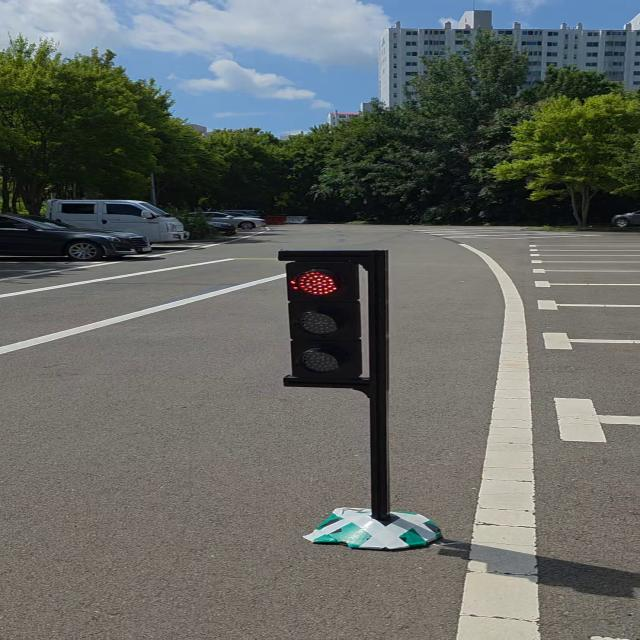red: (280, 253, 367, 389)
